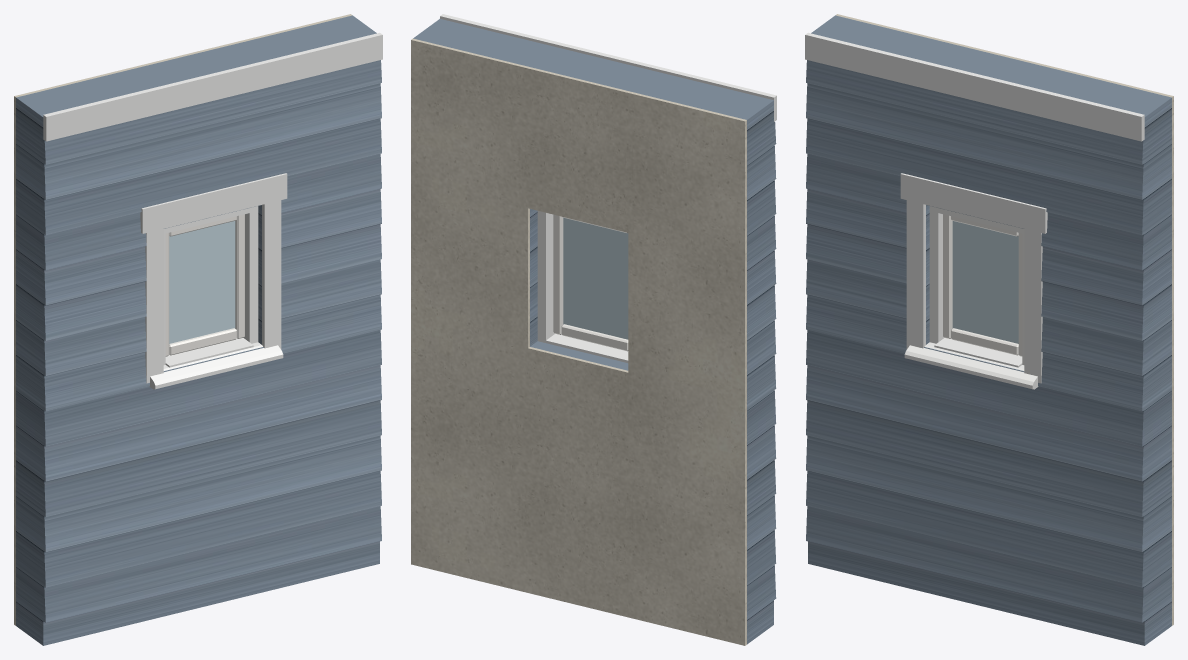
The model's file is wall_siding_small_window.glb.
The picture shows the model from 3 angles, left to right: view 1: azimuth 30°, elevation 25°; view 2: azimuth 150°, elevation 25°; view 3: azimuth 330°, elevation 25°; orthographic projection.
Visible parts, largest first — view 1: wall_siding_small_window_siding, wall_siding_small_window_trim, wall_siding_small_window_glass, wall_siding_small_window_sash, wall_siding_small_window_frame, wall_siding_small_window_plaster; view 2: wall_siding_small_window_plaster, wall_siding_small_window_siding, wall_siding_small_window_glass, wall_siding_small_window_trim, wall_siding_small_window_sash, wall_siding_small_window_frame; view 3: wall_siding_small_window_siding, wall_siding_small_window_trim, wall_siding_small_window_glass, wall_siding_small_window_sash, wall_siding_small_window_frame, wall_siding_small_window_plaster.
Part boxes in pixels (bbox=[...]): wall_siding_small_window_siding: bbox=[16, 15, 381, 645]; wall_siding_small_window_trim: bbox=[43, 32, 382, 389]; wall_siding_small_window_glass: bbox=[169, 221, 235, 343]; wall_siding_small_window_sash: bbox=[165, 214, 244, 356]; wall_siding_small_window_frame: bbox=[163, 206, 258, 364]; wall_siding_small_window_plaster: bbox=[14, 14, 352, 625]; wall_siding_small_window_plaster: bbox=[411, 38, 746, 645]; wall_siding_small_window_siding: bbox=[413, 19, 776, 644]; wall_siding_small_window_glass: bbox=[563, 217, 628, 339]; wall_siding_small_window_trim: bbox=[440, 14, 776, 362]; wall_siding_small_window_sash: bbox=[553, 214, 628, 351]; wall_siding_small_window_frame: bbox=[537, 211, 554, 342]; wall_siding_small_window_siding: bbox=[806, 15, 1171, 645]; wall_siding_small_window_trim: bbox=[805, 32, 1144, 389]; wall_siding_small_window_glass: bbox=[952, 221, 1018, 343]; wall_siding_small_window_sash: bbox=[943, 214, 1022, 356]; wall_siding_small_window_frame: bbox=[929, 206, 1024, 364]; wall_siding_small_window_plaster: bbox=[835, 14, 1173, 625].
Size of the model in its own units: 2 by 3.02 by 0.38.
Materials: 6 (2 with a texture image).
